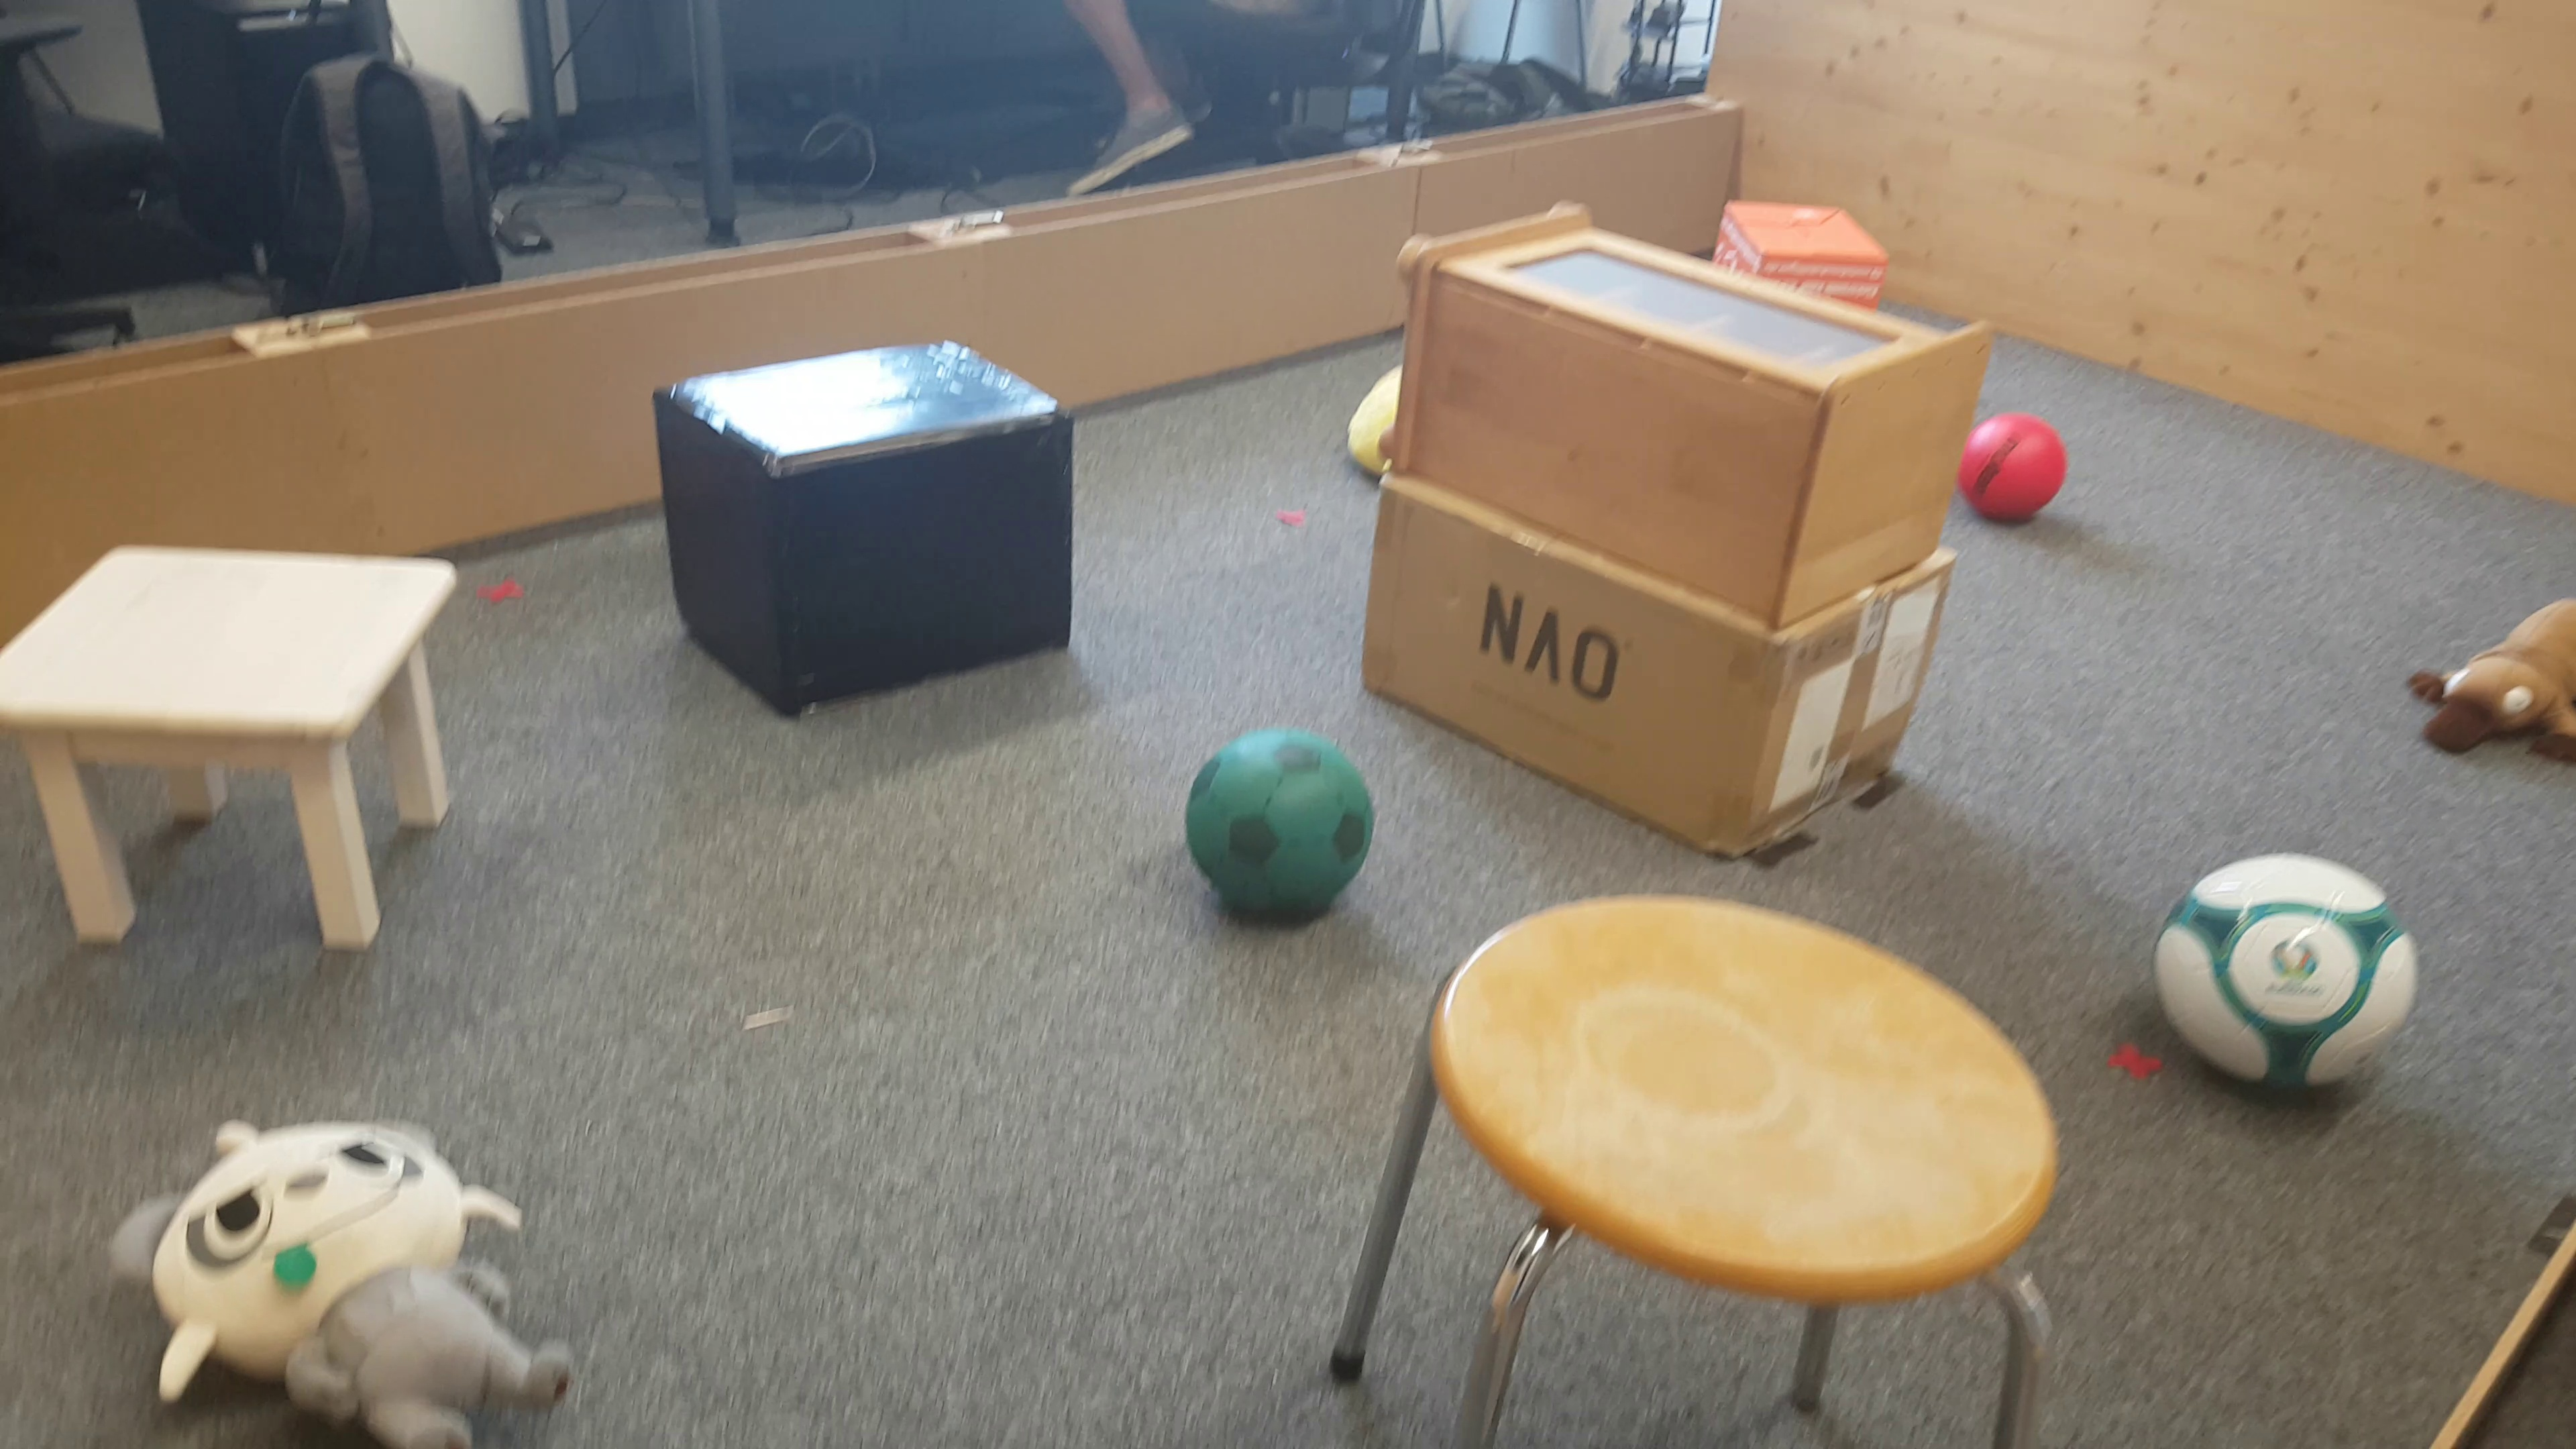grasp: (104, 1102, 571, 1449), (2415, 584, 2576, 738), (1350, 357, 1394, 479)
kick: (2151, 851, 2426, 1099), (1185, 738, 1382, 925), (1967, 407, 2066, 531)
push: (663, 341, 1083, 711), (1720, 195, 1886, 283)
